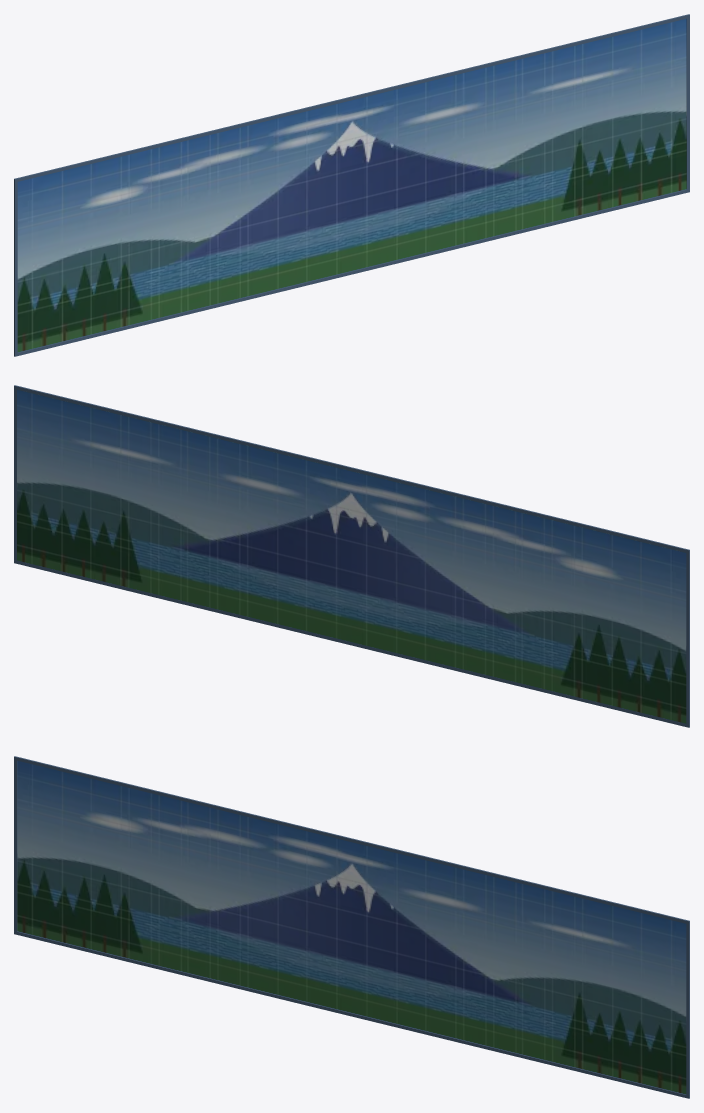
File: mural.mobile.glb
The picture shows the model from 3 angles, top to bottom: view 1: azimuth 30°, elevation 25°; view 2: azimuth 150°, elevation 25°; view 3: azimuth 330°, elevation 25°; orthographic projection.
Visible parts, largest first — view 1: Panel, FrameH1, FrameH-1, FrameV-1, FrameV1; view 2: Panel, FrameH1, FrameH-1, FrameV-1; view 3: Panel, FrameH1, FrameH-1, FrameV1, FrameV-1.
Part boxes in pixels (x1,y1,x2,y2): Panel: (17,18,686,352); FrameH1: (14,14,689,182); FrameH-1: (14,189,689,356); FrameV-1: (14,182,17,353); FrameV1: (686,18,689,189); Panel: (17,389,686,723); FrameH1: (14,385,689,553); FrameH-1: (14,560,689,727); FrameV-1: (686,553,689,724); Panel: (17,760,686,1094); FrameH1: (14,756,689,924); FrameH-1: (14,931,689,1098); FrameV1: (686,924,689,1095); FrameV-1: (14,760,17,931).
Bounding box in the file's own units: 18.16 × 4.56 × 0.0399.
2 materials, 1 textured.
